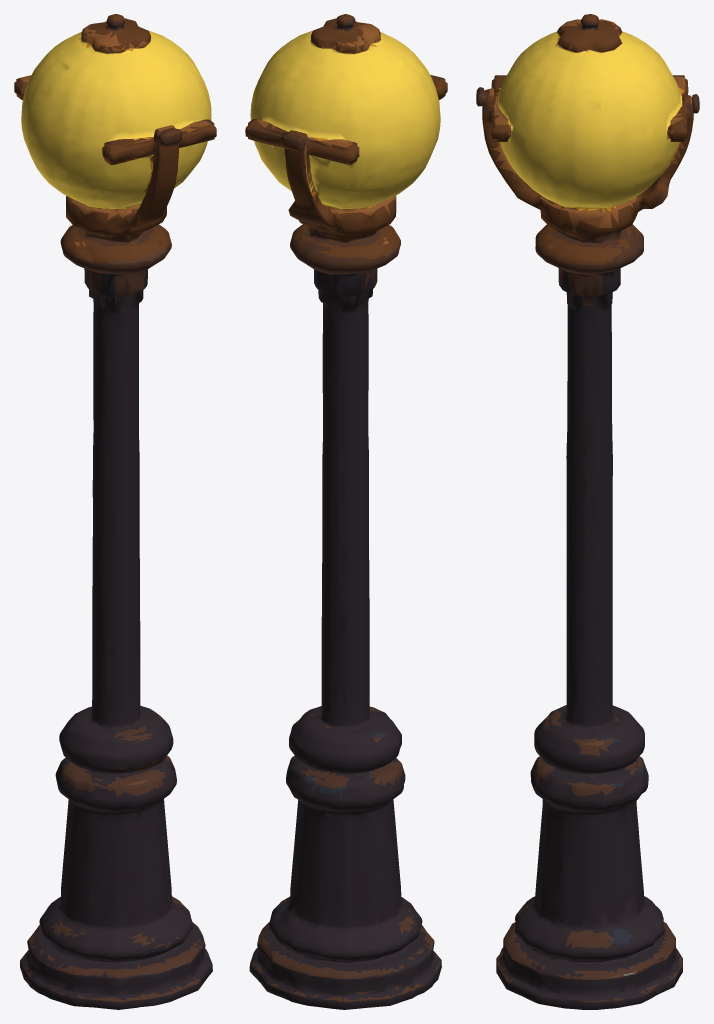
File: SM_street_lamp.fbx
3 renders of one model, left to right at view 1: azimuth 30°, elevation 25°; view 2: azimuth 150°, elevation 25°; view 3: azimuth 270°, elevation 25°, orthographic.
Visible parts, largest first — view 1: SM_street_lamp; view 2: SM_street_lamp; view 3: SM_street_lamp.
Boxes of the visible parts, <box> form: SM_street_lamp: <box>14,14,216,1009</box>; SM_street_lamp: <box>245,14,447,1009</box>; SM_street_lamp: <box>476,14,699,1009</box>.
Bounding box in the file's own units: 47.24 × 260 × 55.12.
1 material, 1 textured.
